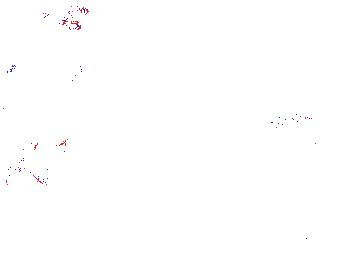X-ray fish: (48, 57, 89, 84)
glassfish: (222, 102, 325, 168)
red belly glassfish: (39, 3, 90, 20), (45, 15, 82, 32)
redtail glassfish: (1, 132, 79, 182)
